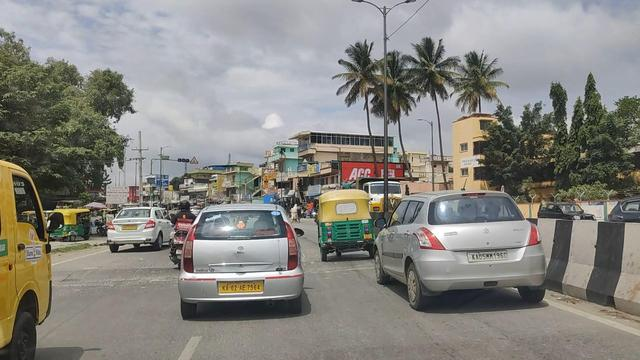LMV: (0, 146, 138, 360), (374, 190, 548, 318), (179, 202, 306, 323), (310, 186, 367, 259), (109, 199, 174, 256)
SpeedBump: (60, 265, 176, 298)
